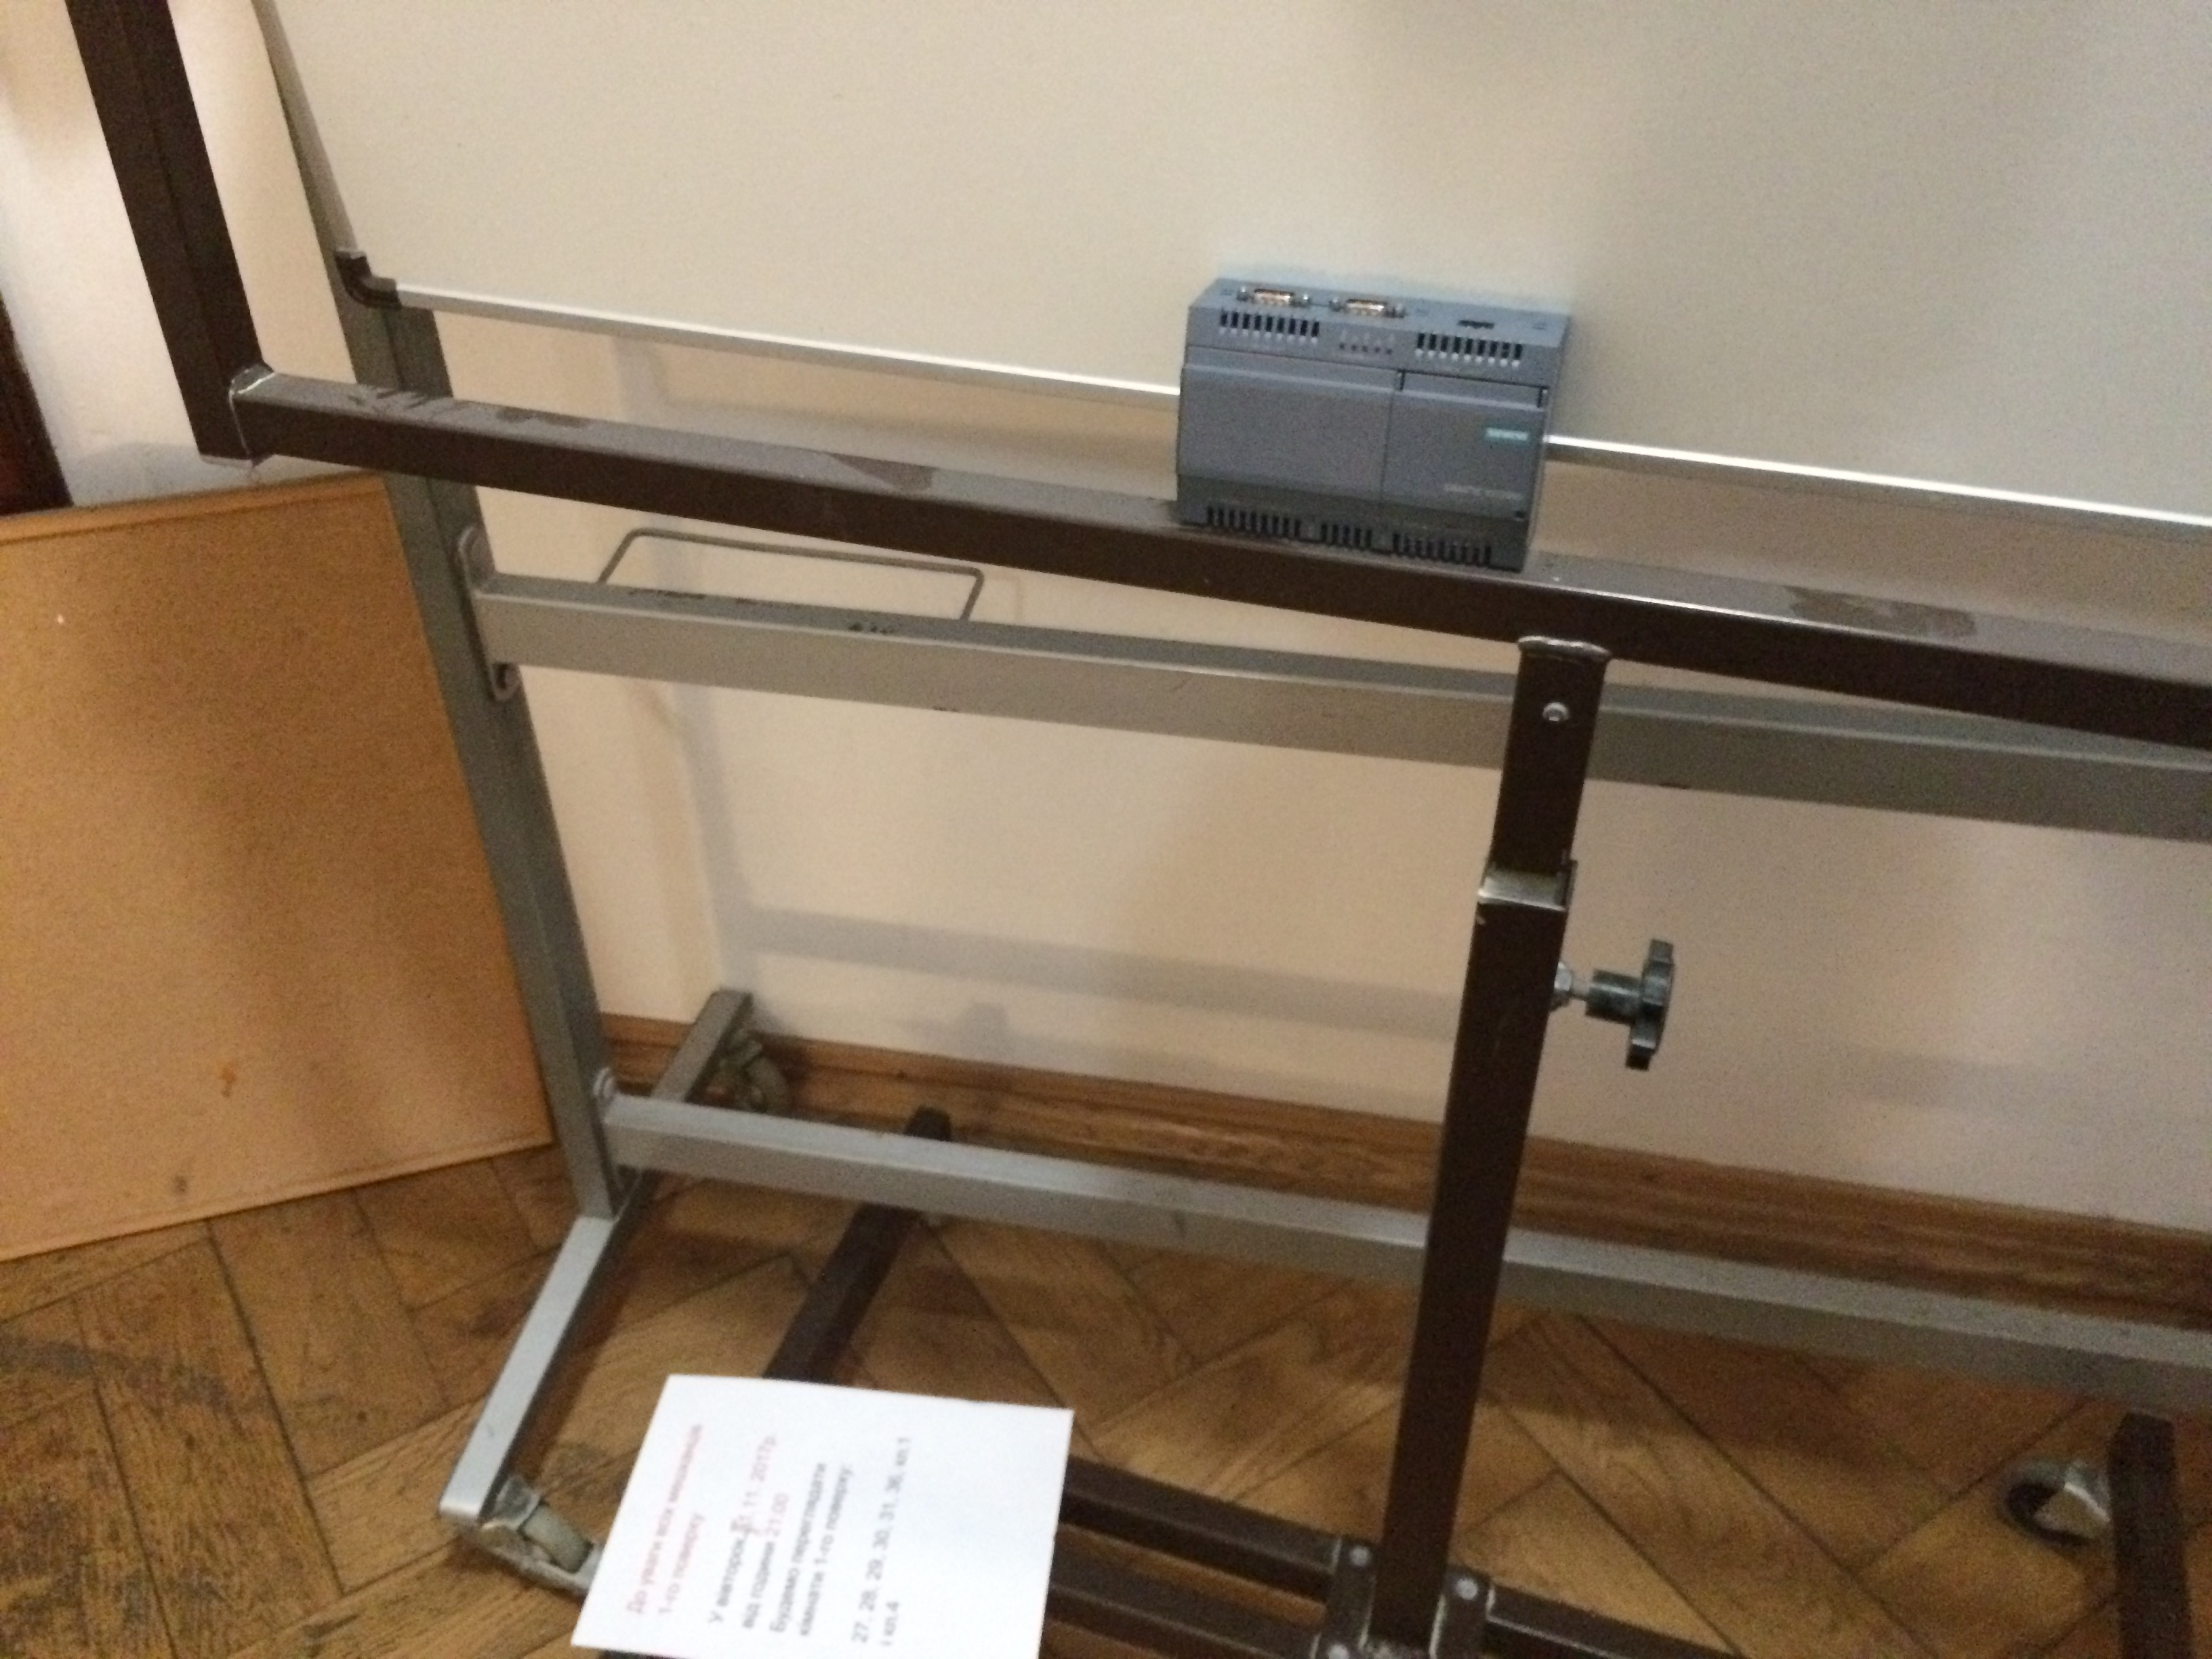iot2000: (1170, 272, 1573, 577)
